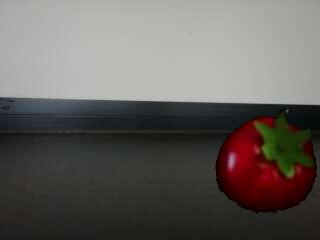Tomato: (215, 110, 318, 214)
